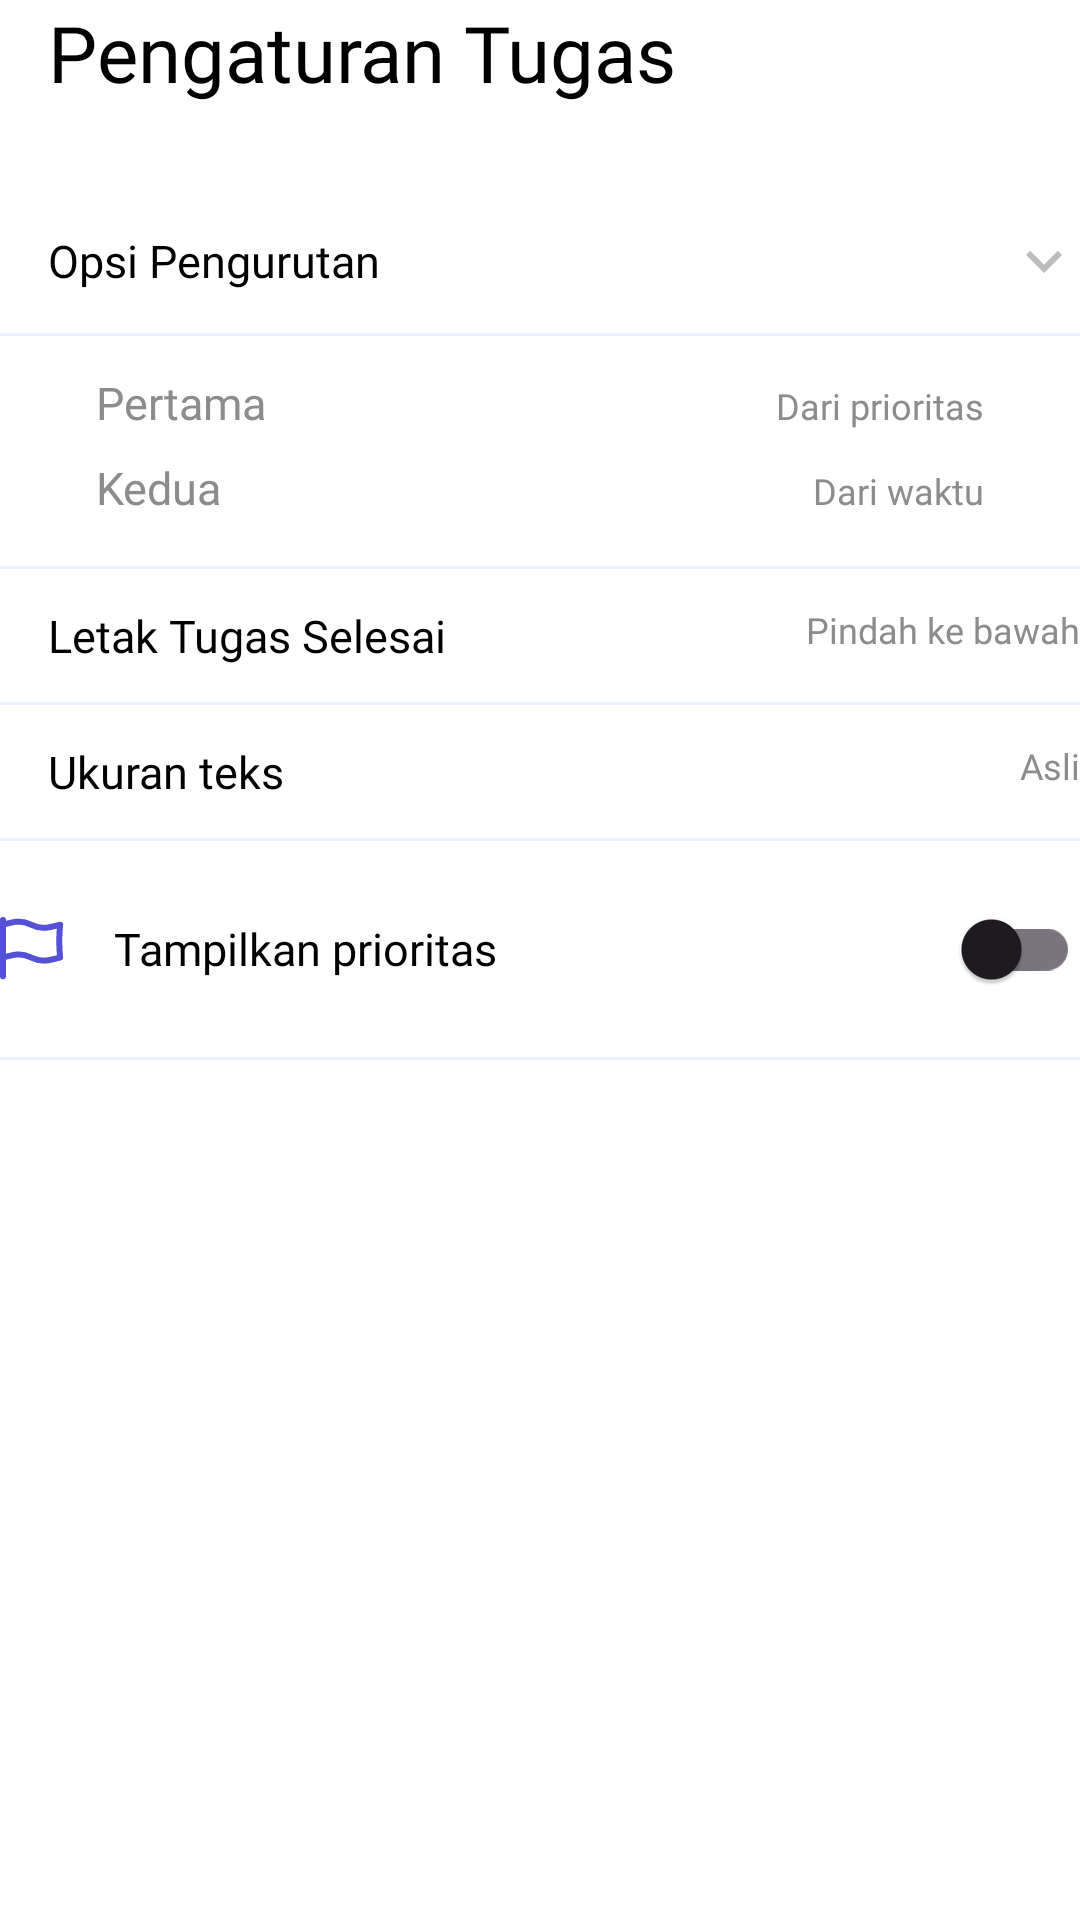

Icon click points for this 1080×1920 phone screenshot, format [x,y]:
arrow bottom: [1044,262]
flag setting: [31,948]
